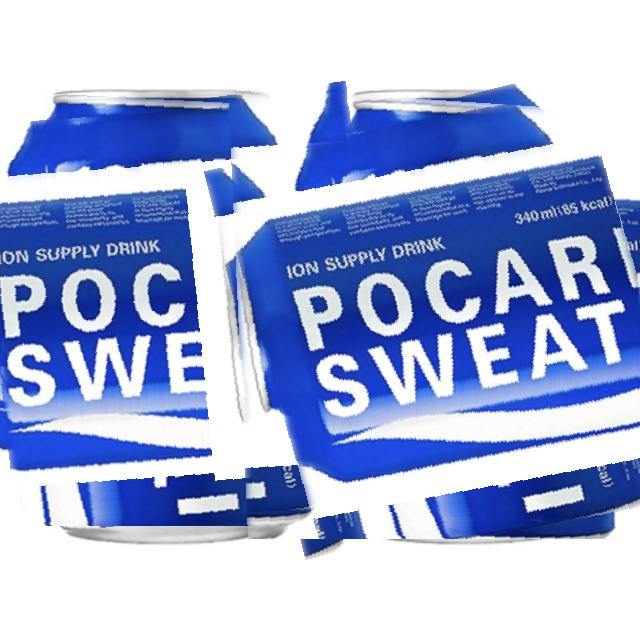recyclable: (228, 86, 640, 539), (0, 91, 383, 526)
